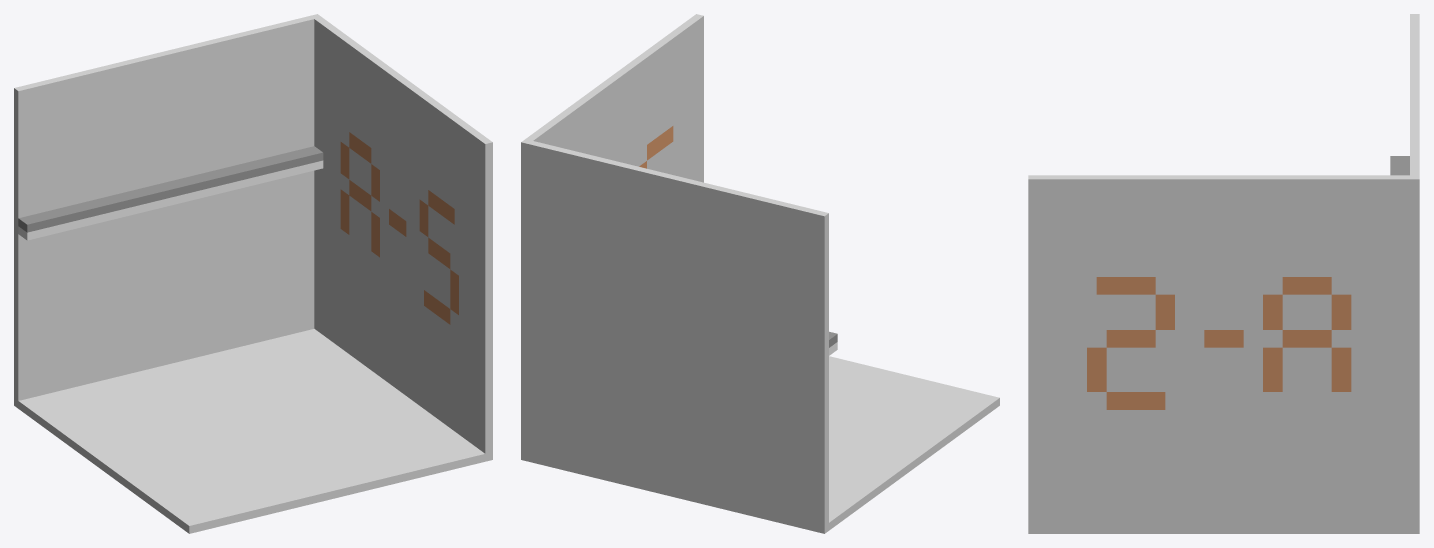
File: Wall_Corner(Ver_1_Number 5).obj
The picture shows the model from 3 angles, left to right: view 1: azimuth 30°, elevation 25°; view 2: azimuth 150°, elevation 25°; view 3: azimuth 270°, elevation 25°; orthographic projection. The views are drawn at different scales.
Size of the model in its own units: 4 by 4 by 4.
1 material, 1 textured.
